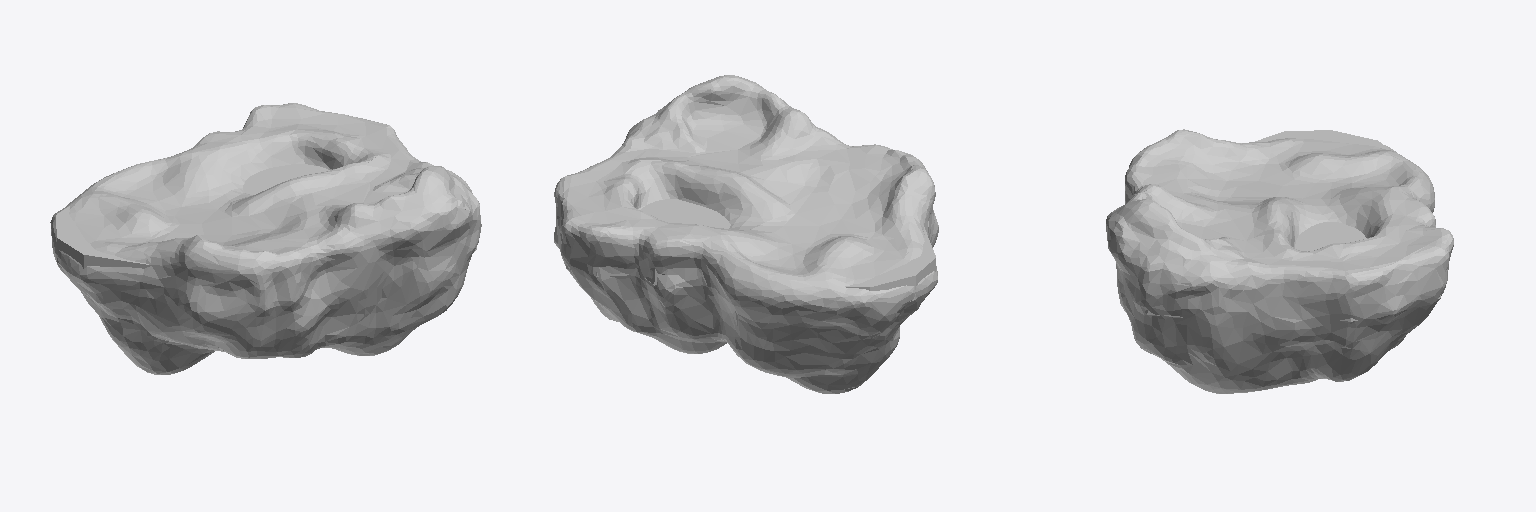
The model's file is lyla's island 2.2.obj.
3 views of the same model, side by side, from view 1: azimuth 30°, elevation 25°; view 2: azimuth 150°, elevation 25°; view 3: azimuth 270°, elevation 25° (orthographic).
Visible parts, largest first — view 1: Island_Base2_Plane.002, Island_Base3_Plane.003, Island_Base_Plane.001; view 2: Island_Base2_Plane.002, Island_Base3_Plane.003, Island_Base_Plane.001; view 3: Island_Base2_Plane.002, Island_Base3_Plane.003, Island_Base_Plane.001.
Part boxes in pixels (left/top/right/bottom): Island_Base2_Plane.002: left=50, top=103, right=481, bottom=374; Island_Base3_Plane.003: left=51, top=103, right=481, bottom=374; Island_Base_Plane.001: left=55, top=164, right=476, bottom=268; Island_Base2_Plane.002: left=554, top=75, right=938, bottom=393; Island_Base3_Plane.003: left=554, top=75, right=938, bottom=393; Island_Base_Plane.001: left=566, top=199, right=935, bottom=325; Island_Base2_Plane.002: left=1106, top=129, right=1453, bottom=393; Island_Base3_Plane.003: left=1106, top=129, right=1453, bottom=393; Island_Base_Plane.001: left=1145, top=130, right=1440, bottom=324.
Size of the model in its own units: 4.26 by 2.47 by 3.68.